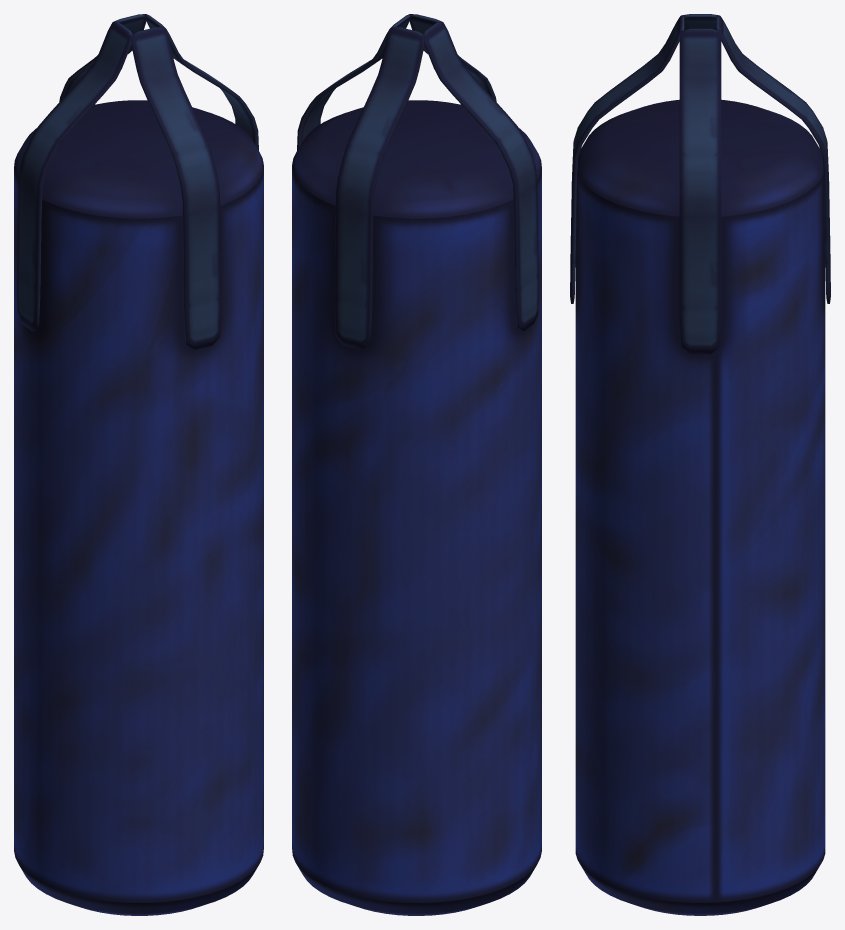
File: PunchBag.fbx
The picture shows the model from 3 angles, left to right: view 1: azimuth 30°, elevation 25°; view 2: azimuth 150°, elevation 25°; view 3: azimuth 270°, elevation 25°; orthographic projection.
Parts seen in each view (by area): view 1: PunchBagHighPoly; view 2: PunchBagHighPoly; view 3: PunchBagHighPoly.
Part boxes in pixels (bbox=[...]): PunchBagHighPoly: bbox=[14, 14, 263, 915]; PunchBagHighPoly: bbox=[292, 14, 541, 915]; PunchBagHighPoly: bbox=[570, 14, 830, 915].
Bounding box in the file's own units: 4.98 × 17.99 × 4.98.
Materials: 1 (1 with a texture image).
